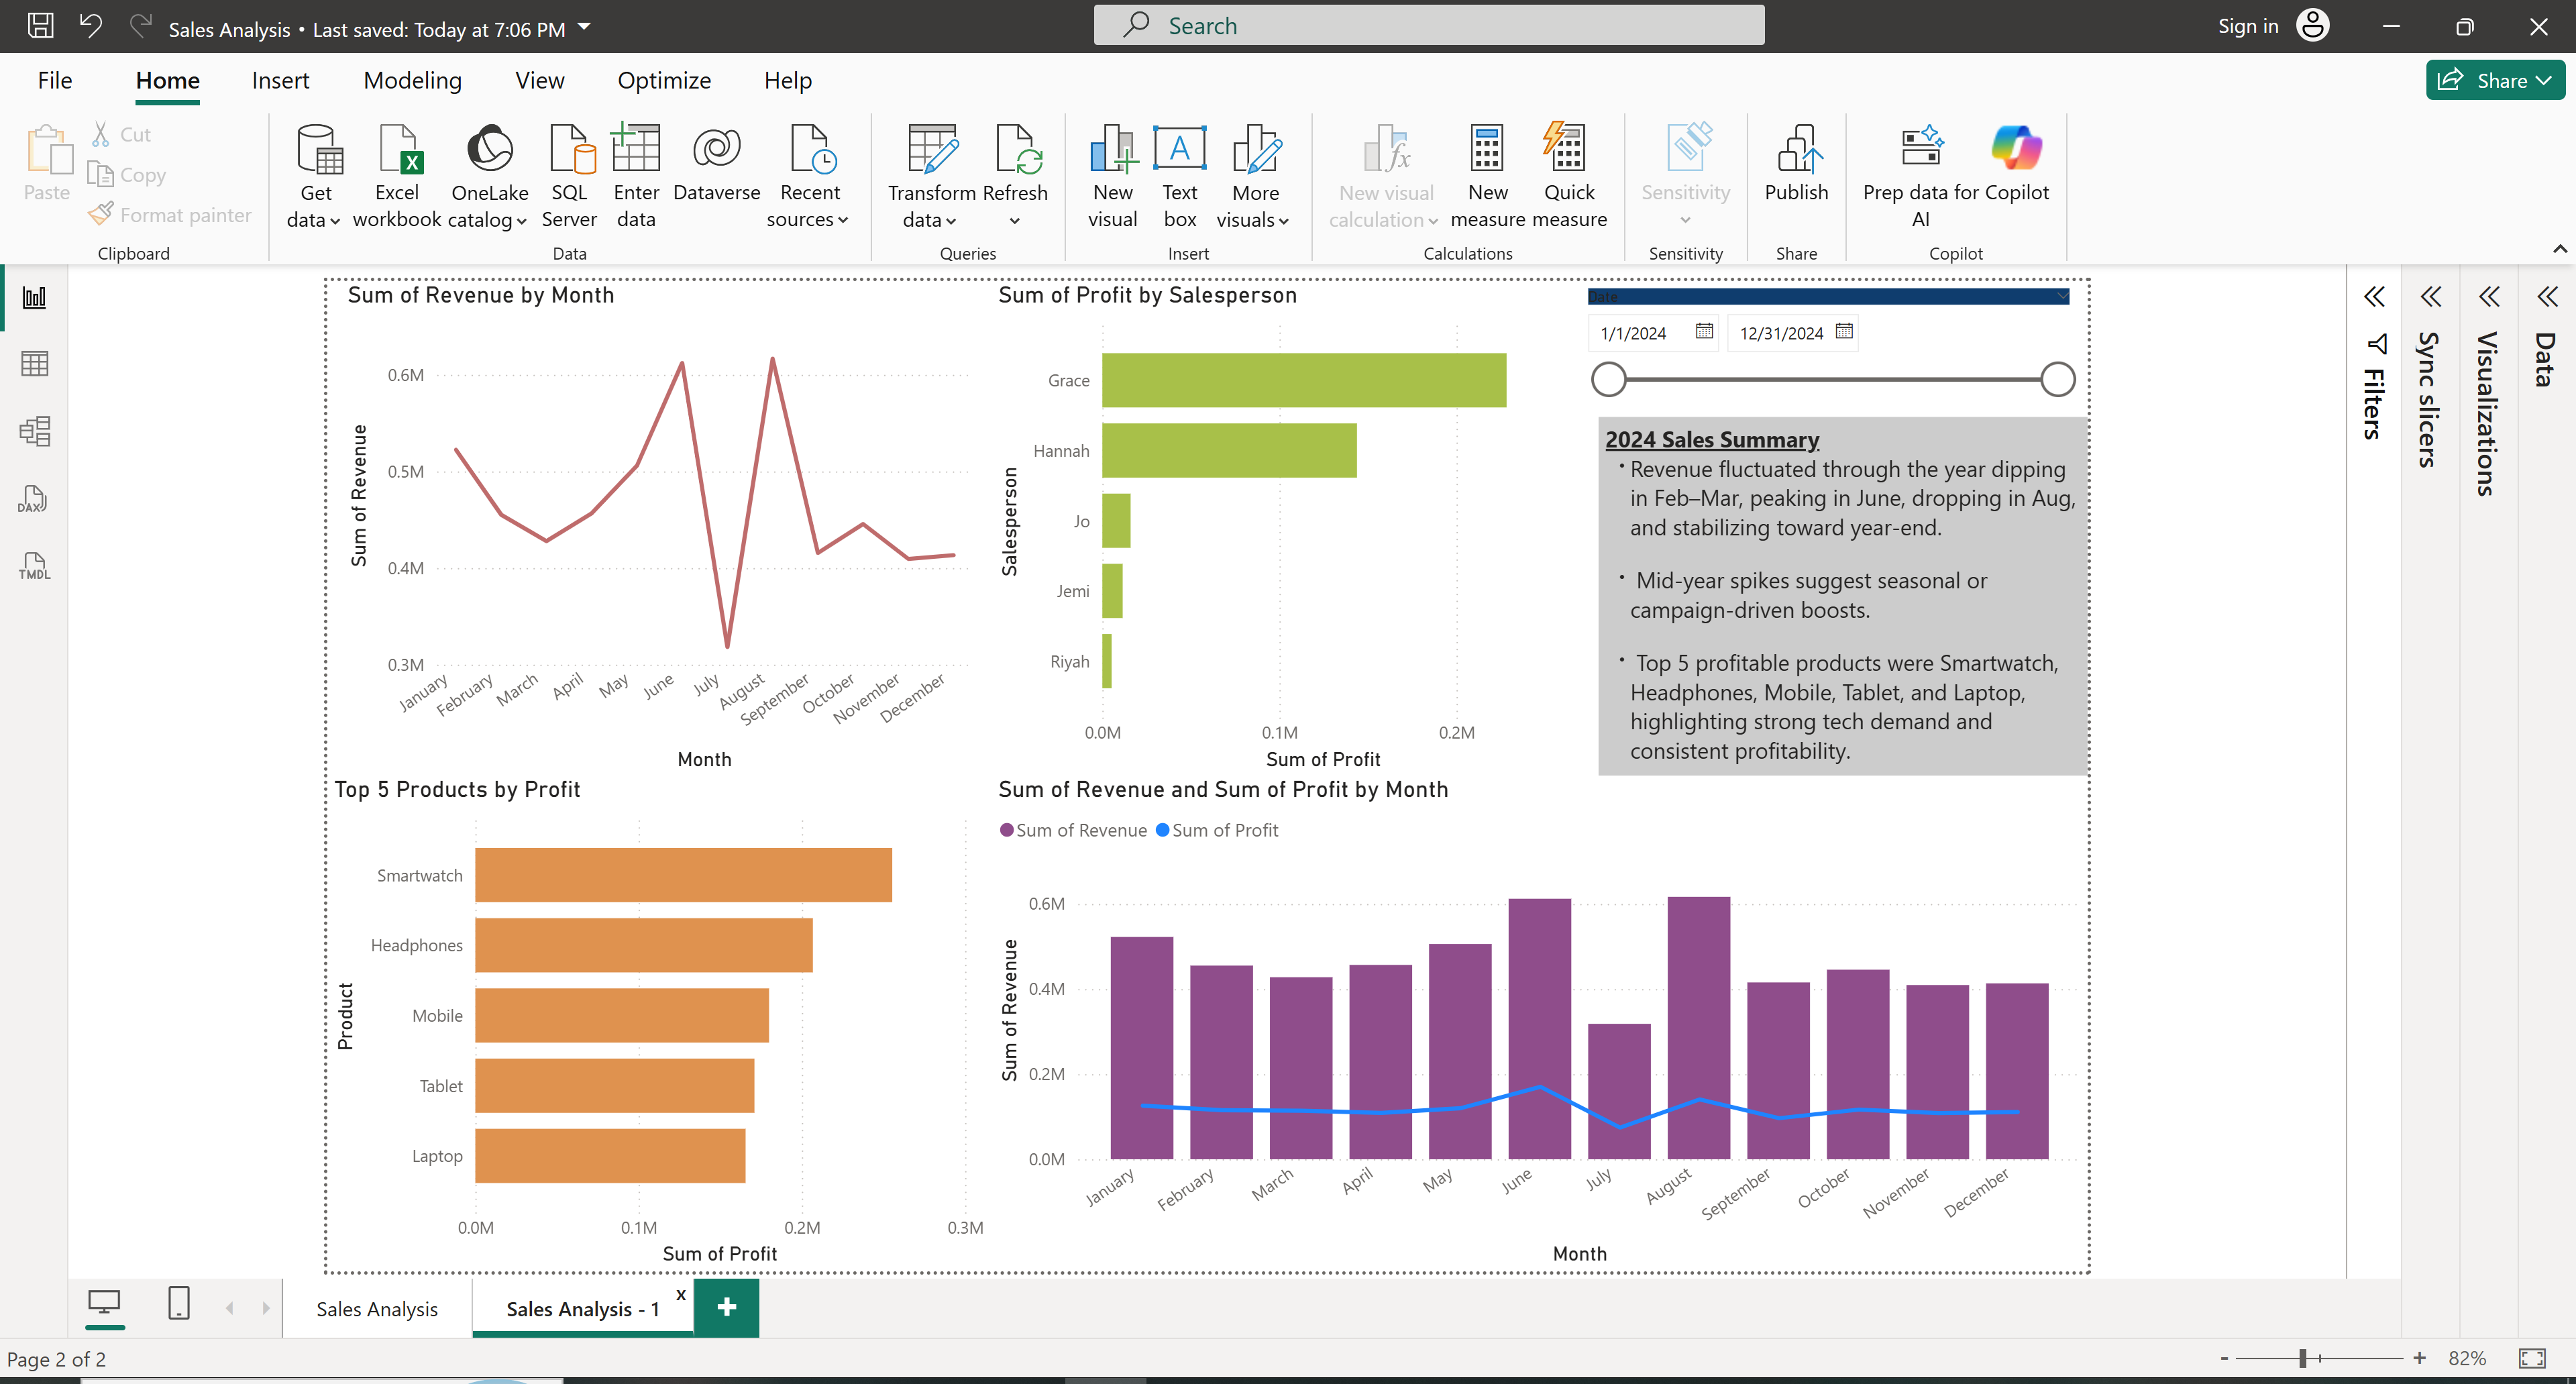

This screenshot's page, from the dashboard's own definition file:
{"tool":"powerbi","page":{"name":"Sales Analysis - 1","canvas":[1280,720],"ordinal":1},"visuals":[{"type":"lineChart","fields":{"Category":["Sheet1.Date.Variation.Date Hierarchy.Month"],"Y":["Sum(Sheet1.Revenue)"]},"box":[10.2,0,463.6,360.1],"z":0},{"type":"clusteredBarChart","title":"Top 5 Products by Profit ","fields":{"Category":["Sheet1.Product"],"Y":["Sum(Sheet1.Profit)"]},"box":[0,360.1,482.6,360.1],"z":1000},{"type":"slicer","fields":{"Values":["Sheet1.Date"]},"box":[903.9,0,376.1,99.1],"z":2000},{"type":"lineClusteredColumnComboChart","fields":{"Category":["Sheet1.Date.Variation.Date Hierarchy.Month"],"Y":["Sum(Sheet1.Revenue)"],"Y2":["Sum(Sheet1.Profit)"]},"box":[482.6,360.1,797.4,360.1],"z":6000},{"type":"barChart","fields":{"Category":["Sheet1.Salesperson"],"Y":["Sum(Sheet1.Profit)"]},"box":[482.6,0,421.3,360.1],"z":7000},{"type":"textbox","box":[924.3,99.1,355.7,261],"z":8000}]}

Visuals, with their boxes on the page's 1280x720 design canvas (x1, y1, x2, y2). These are canvas units, not pixel positions in the 2576x1384 screenshot, which may show the page scaled, cropped or inside an application window:
lineChart - Sheet1.Date.Variation.Date Hierarchy.Month x Sum(Sheet1.Revenue): <bbox>10, 0, 474, 360</bbox>
"Top 5 Products by Profit " clusteredBarChart: <bbox>0, 360, 483, 720</bbox>
slicer - Sheet1.Date: <bbox>904, 0, 1280, 99</bbox>
lineClusteredColumnComboChart - Sheet1.Date.Variation.Date Hierarchy.Month x Sum(Sheet1.Revenue): <bbox>483, 360, 1280, 720</bbox>
barChart - Sheet1.Salesperson x Sum(Sheet1.Profit): <bbox>483, 0, 904, 360</bbox>
textbox: <bbox>924, 99, 1280, 360</bbox>
